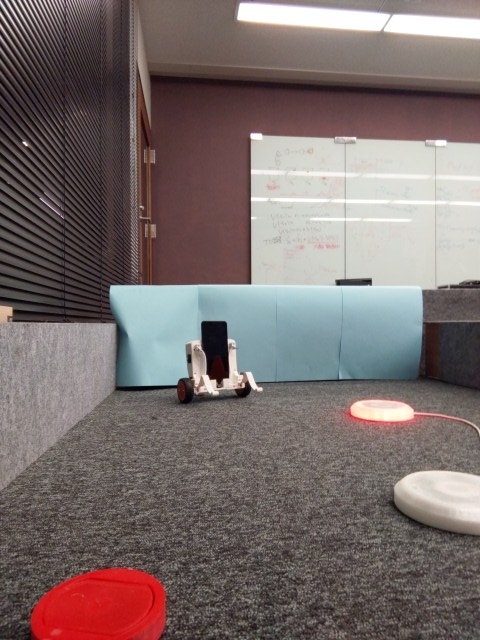f: (175, 318, 265, 405)
o: (392, 467, 480, 538)
r: (347, 397, 415, 422)
